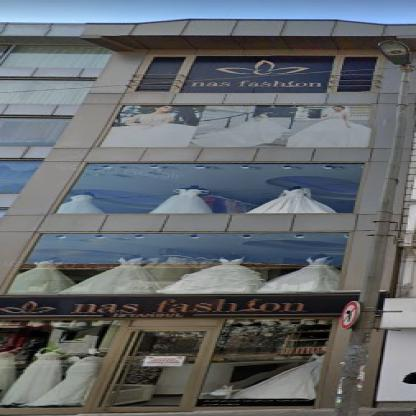door: (110, 328, 206, 407)
window: (0, 231, 349, 292), (60, 162, 362, 211), (193, 319, 344, 406), (134, 54, 386, 93), (4, 322, 112, 404), (0, 44, 113, 68), (2, 80, 87, 104), (5, 116, 67, 145), (0, 160, 33, 193)
